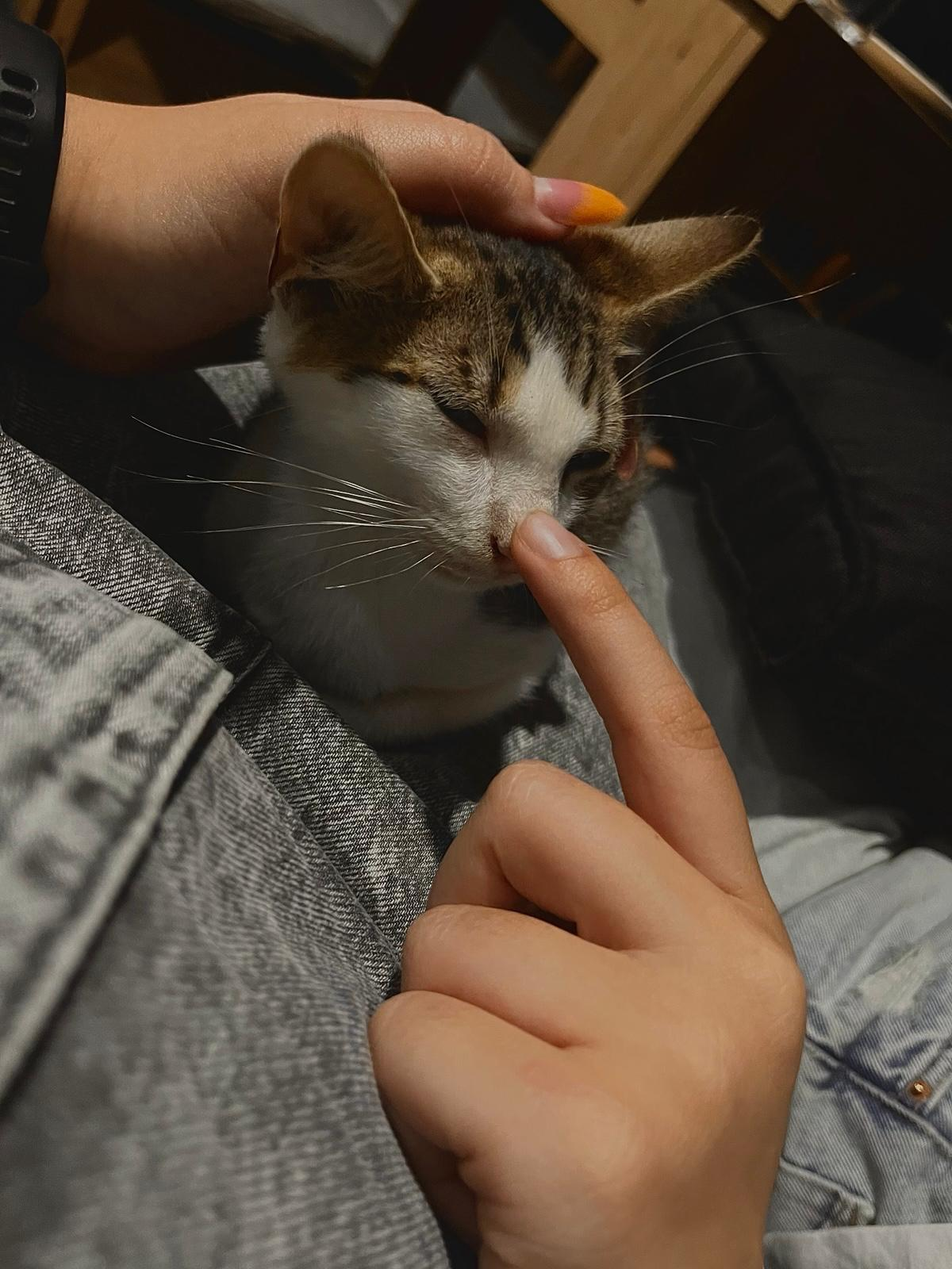macka: (199, 136, 775, 746)
